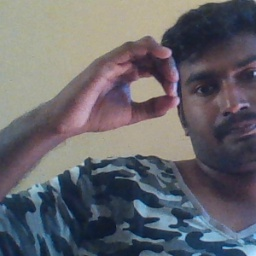O: (48, 34, 182, 133)
